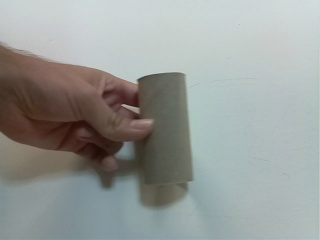rollo papel: (135, 71, 197, 187)
